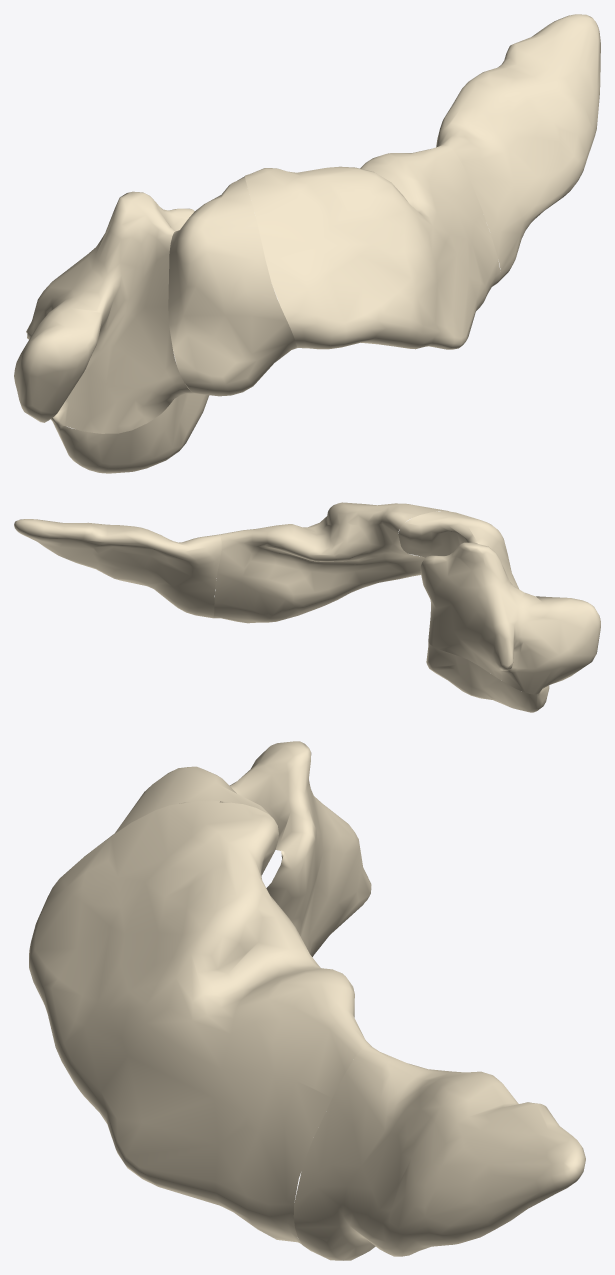
Rendered from pancreas.glb.
3 renders of one model, top to bottom at view 1: azimuth 30°, elevation 25°; view 2: azimuth 150°, elevation 25°; view 3: azimuth 270°, elevation 25°, orthographic. The views are drawn at different scales.
Visible parts, largest first — view 1: VH_F_body_of_pancreas, VH_F_head_of_pancreas, VH_F_tail_of_pancreas, VH_F_neck_of_pancreas, VH_F_uncinate_process; view 2: VH_F_body_of_pancreas, VH_F_head_of_pancreas, VH_F_tail_of_pancreas, VH_F_neck_of_pancreas, VH_F_uncinate_process; view 3: VH_F_body_of_pancreas, VH_F_tail_of_pancreas, VH_F_head_of_pancreas, VH_F_neck_of_pancreas.
Part boxes in pixels (x1,y1,x2,y2): VH_F_body_of_pancreas: [245, 145, 500, 349]; VH_F_head_of_pancreas: [14, 191, 194, 433]; VH_F_tail_of_pancreas: [436, 14, 600, 281]; VH_F_neck_of_pancreas: [168, 176, 296, 396]; VH_F_uncinate_process: [53, 384, 209, 473]; VH_F_body_of_pancreas: [213, 502, 449, 623]; VH_F_head_of_pancreas: [420, 542, 600, 694]; VH_F_tail_of_pancreas: [14, 519, 221, 618]; VH_F_neck_of_pancreas: [398, 511, 518, 588]; VH_F_uncinate_process: [426, 642, 549, 712]; VH_F_body_of_pancreas: [29, 801, 371, 1244]; VH_F_tail_of_pancreas: [293, 1046, 585, 1260]; VH_F_head_of_pancreas: [179, 741, 371, 956]; VH_F_neck_of_pancreas: [97, 766, 273, 846].
Size of the model in its own units: 0.1721 by 0.0579 by 0.0844.
